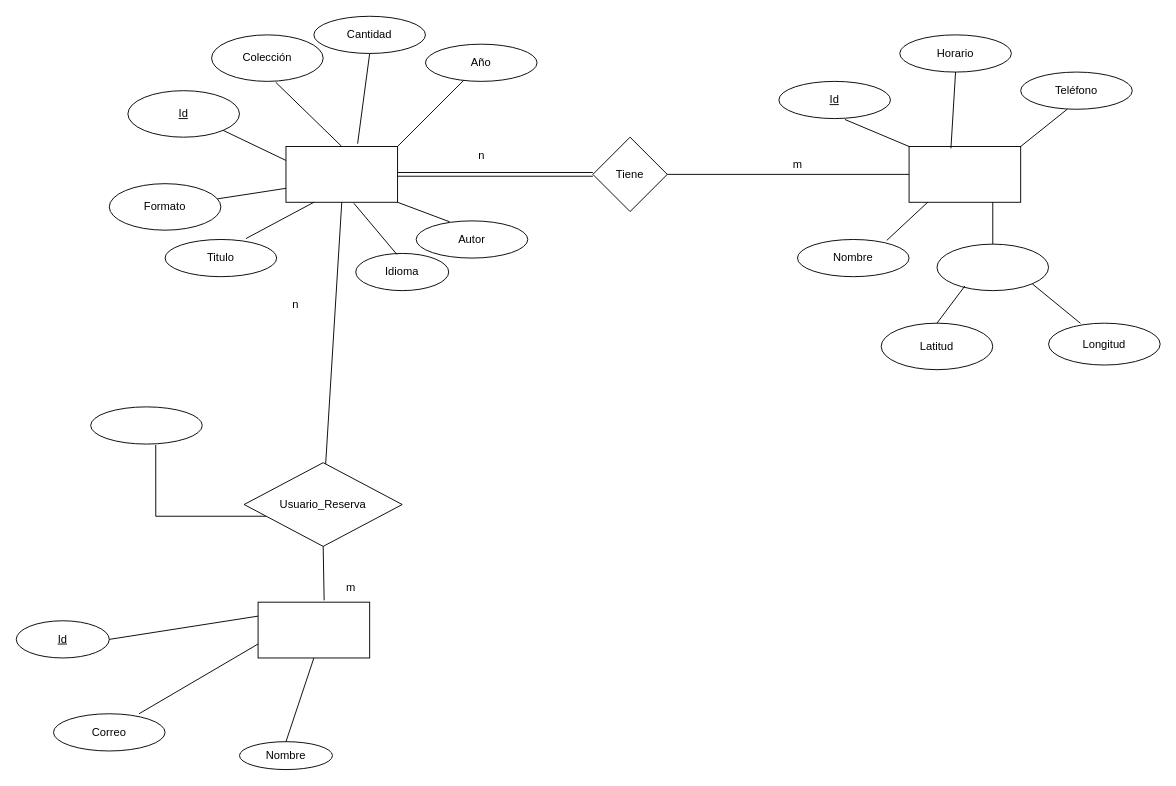
Image size: 1176x786. Some labels were removed from this diagram. The shapes that lost their labels are listed below. From the top down, each one's centre as x and y in pixels, then its label:
point 341,174: Material
point 964,174: Biblioteca
point 992,267: Coordenadas
point 146,425: FechaLimite
point 313,629: Usuario
